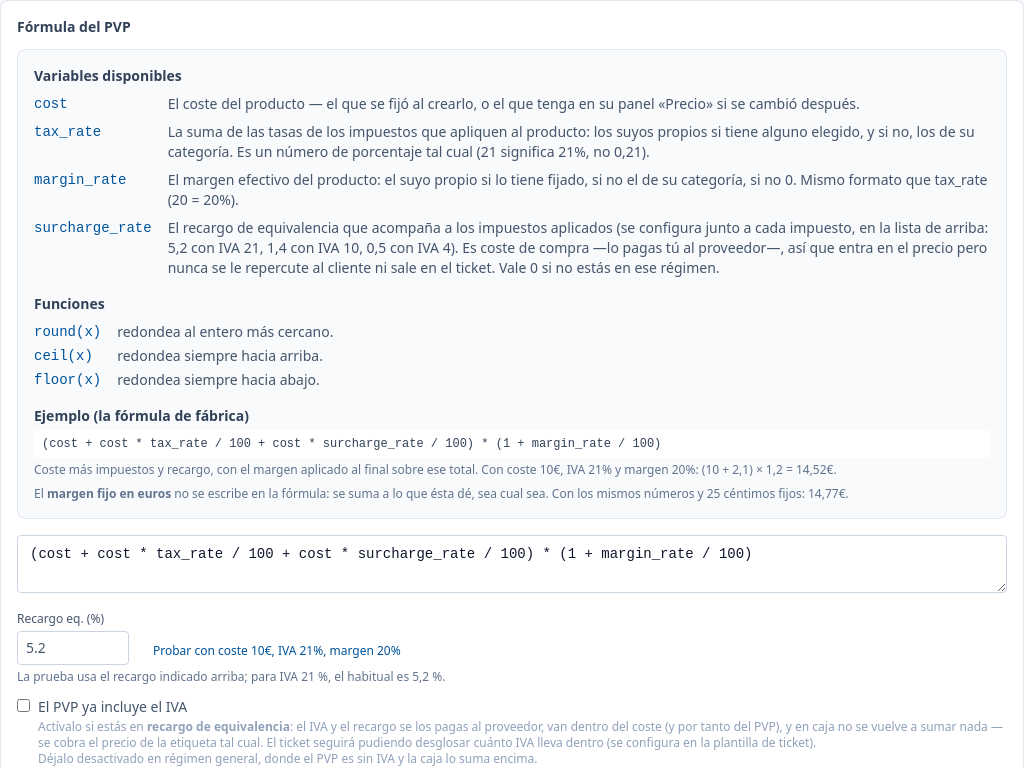
PricingFormulaPage › previews the formula against sample values
The image size is (1024, 768).
Check: the text box showing "(cost + cost * tax_rate / 100 + cost * surcharge_rate / 100) * (1 + margin_rate / 100)" is shown, box [17,535,1007,593]
Click the button "Probar con coste 10€, IVA 21%, margen 20%" at (277, 651), box [141,637,413,665]
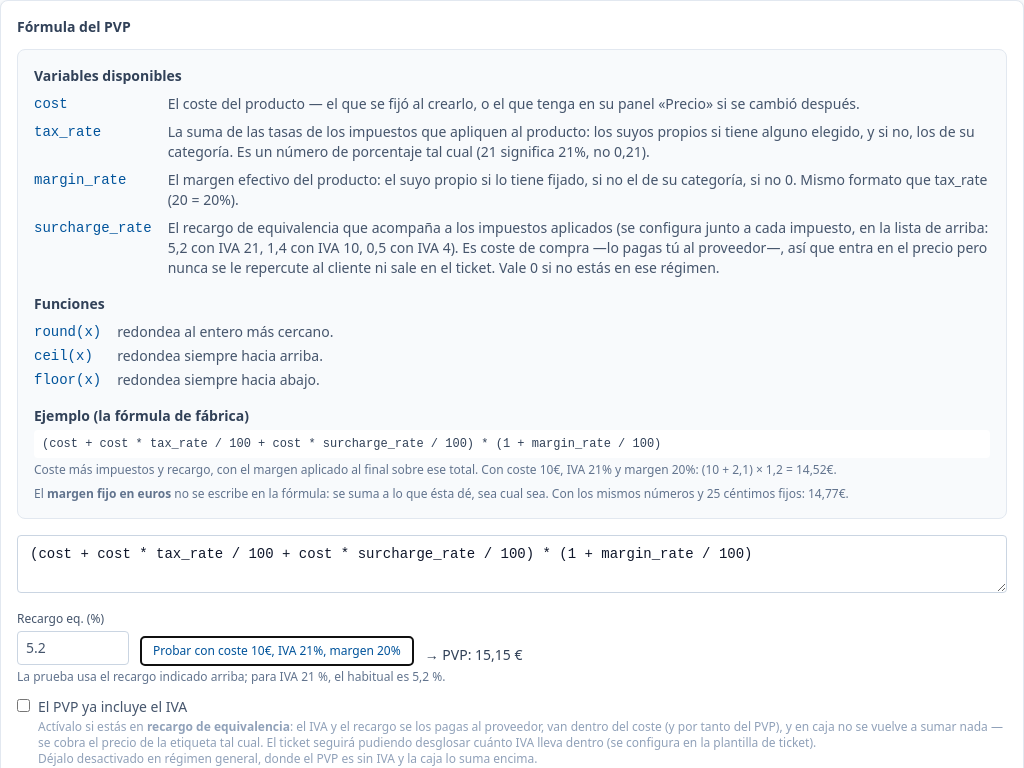
Check: the text "→ PVP: 15,15 €" is shown, box [425,645,522,665]
